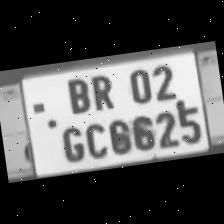0: (120, 64, 153, 107)
2: (150, 105, 179, 150), (147, 60, 178, 102)
5: (172, 98, 204, 148)
6: (126, 110, 156, 154), (105, 114, 132, 158)
B: (62, 74, 93, 117)
C: (82, 118, 109, 162)
G: (55, 121, 86, 165)
R: (85, 70, 119, 113)
